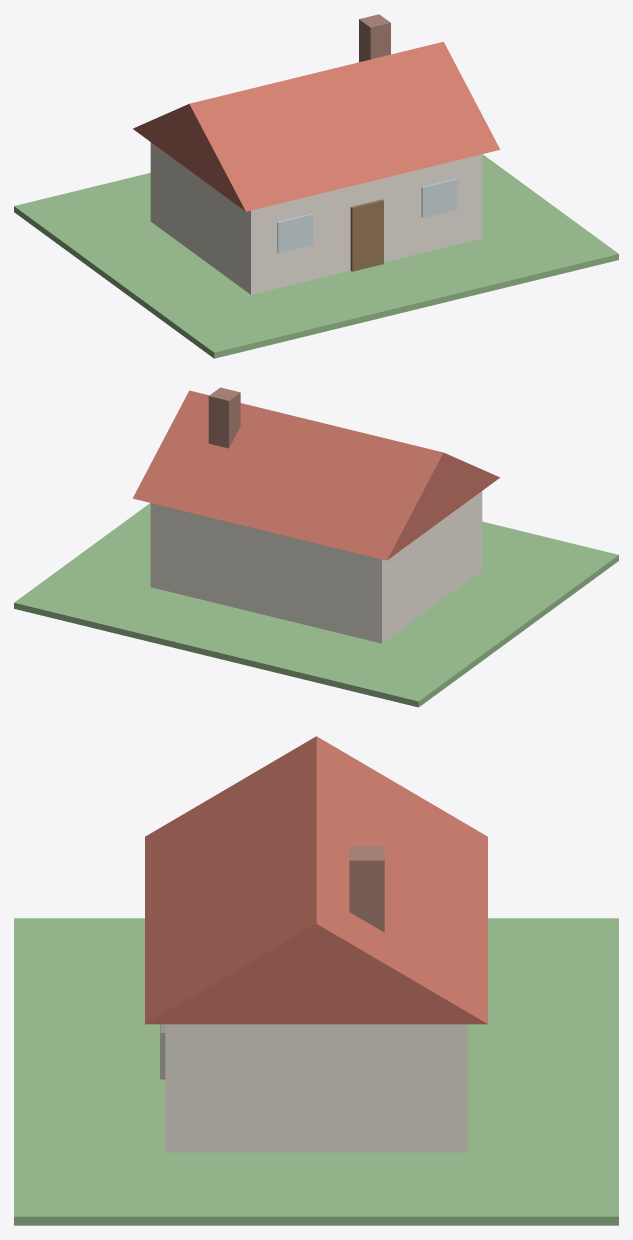
The model's file is house.glb.
3 renders of one model, top to bottom at view 1: azimuth 30°, elevation 25°; view 2: azimuth 150°, elevation 25°; view 3: azimuth 270°, elevation 25°, orthographic. The views are drawn at different scales.
Parts seen in each view (by area): view 1: ground, roof, walls, door, chimney, window_r, window_l; view 2: ground, roof, walls, chimney; view 3: ground, roof, walls, chimney.
Part boxes in pixels (x1=…): ground: x1=14, y1=154, x2=618, y2=358; roof: x1=133, y1=41, x2=500, y2=211; walls: x1=150, y1=142, x2=482, y2=294; door: x1=350, y1=199, x2=383, y2=271; chimney: x1=359, y1=14, x2=390, y2=62; window_r: x1=421, y1=178, x2=457, y2=217; window_l: x1=277, y1=213, x2=312, y2=252; ground: x1=14, y1=503, x2=618, y2=707; roof: x1=132, y1=390, x2=499, y2=560; walls: x1=150, y1=491, x2=482, y2=643; chimney: x1=208, y1=387, x2=240, y2=448; ground: x1=14, y1=918, x2=618, y2=1225; roof: x1=145, y1=736, x2=487, y2=1024; walls: x1=165, y1=1024, x2=467, y2=1152; chimney: x1=349, y1=846, x2=384, y2=932.
Size of the model in its own units: 14 by 6.1 by 12.
